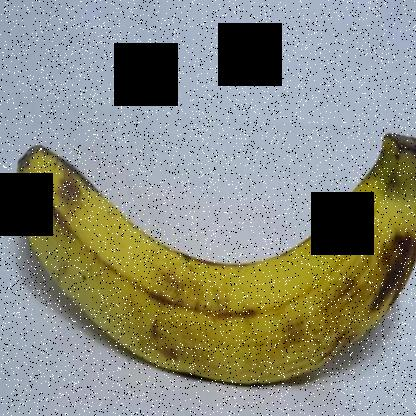ripe: (5, 112, 415, 407)
